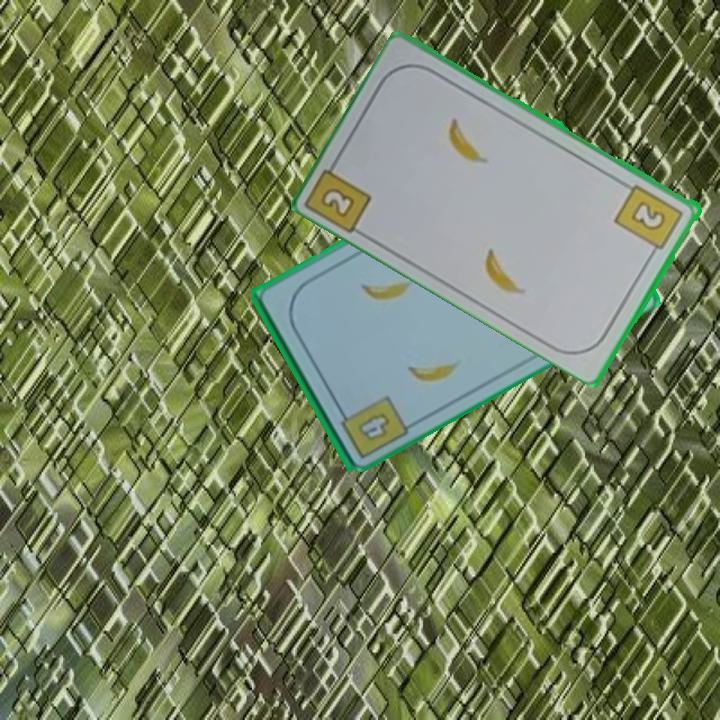2b: (611, 180, 687, 259), (317, 183, 359, 221)
4b: (333, 391, 411, 462)
